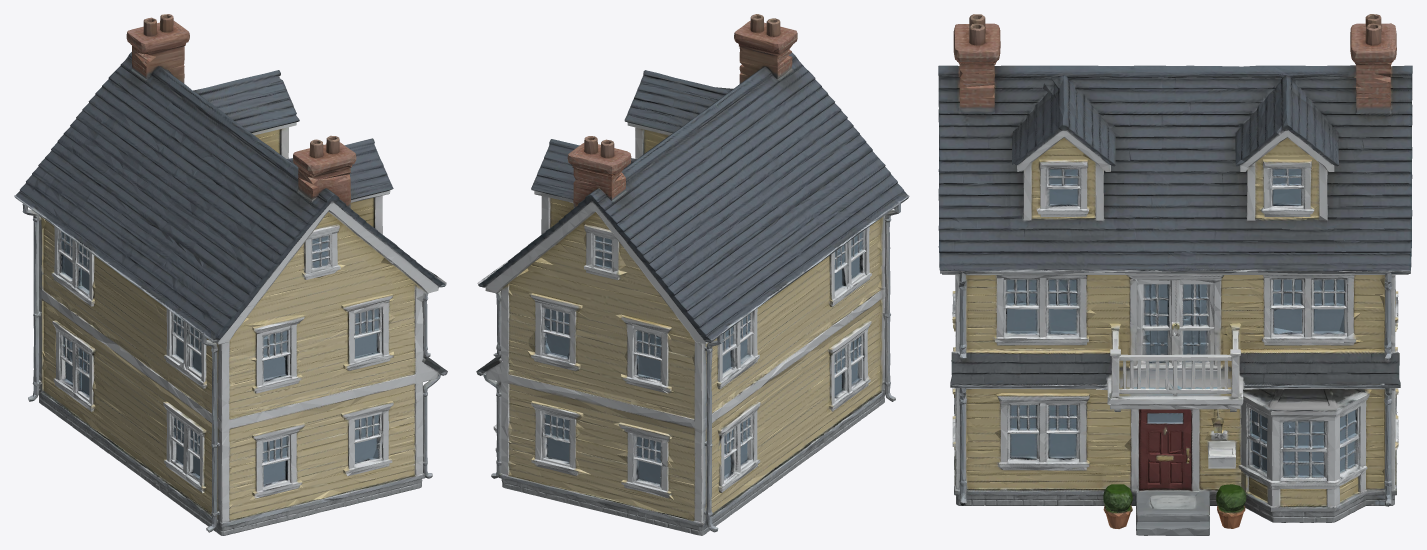
Rendered from house_2story_yellow.glb.
3 renders of one model, left to right at view 1: azimuth 30°, elevation 25°; view 2: azimuth 150°, elevation 25°; view 3: azimuth 270°, elevation 25°, orthographic. The views are drawn at different scales.
Parts seen in each view (by area): view 1: tripo_node_6f850ad2-c9fb-40c2-b359-7275e1991f04; view 2: tripo_node_6f850ad2-c9fb-40c2-b359-7275e1991f04; view 3: tripo_node_6f850ad2-c9fb-40c2-b359-7275e1991f04.
Part boxes in pixels (x1,y1,x2,y2): tripo_node_6f850ad2-c9fb-40c2-b359-7275e1991f04: (14,14,447,535); tripo_node_6f850ad2-c9fb-40c2-b359-7275e1991f04: (476,14,909,535); tripo_node_6f850ad2-c9fb-40c2-b359-7275e1991f04: (938,14,1412,535).
Bounding box in the file's own units: 0.779 × 1 × 0.9927.
1 material, 1 textured.
